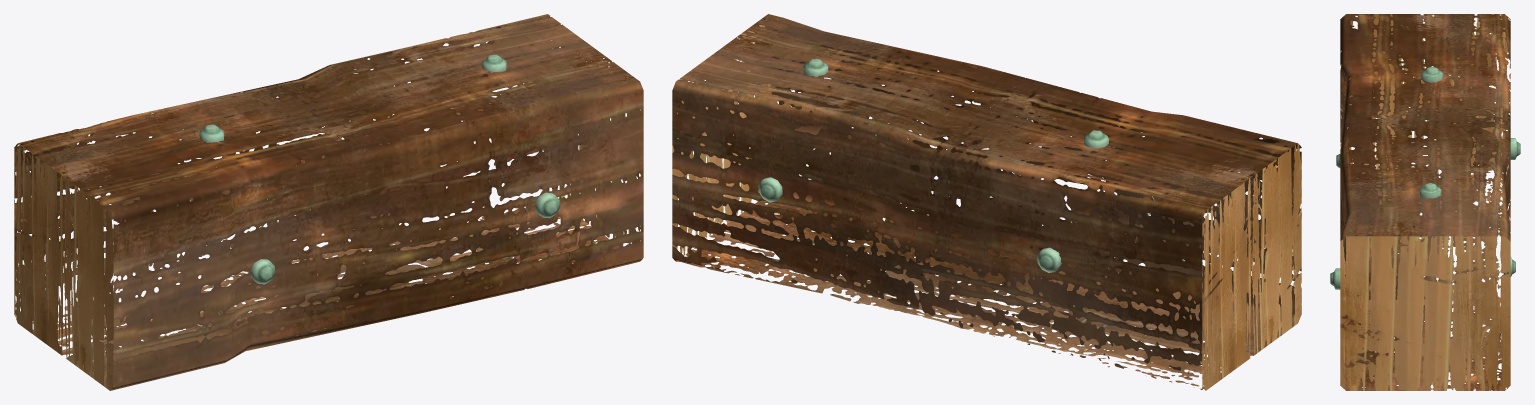
3 views of the same model, side by side, from view 1: azimuth 30°, elevation 25°; view 2: azimuth 150°, elevation 25°; view 3: azimuth 270°, elevation 25° (orthographic). The views are drawn at different scales.
Visible parts, largest first — view 1: SM_BB_T4_Beam_Thick_Med_Horizontal_LOD0; view 2: SM_BB_T4_Beam_Thick_Med_Horizontal_LOD0; view 3: SM_BB_T4_Beam_Thick_Med_Horizontal_LOD0.
Part boxes in pixels (x1=…): SM_BB_T4_Beam_Thick_Med_Horizontal_LOD0: x1=14, y1=14, x2=643, y2=390; SM_BB_T4_Beam_Thick_Med_Horizontal_LOD0: x1=672, y1=14, x2=1301, y2=390; SM_BB_T4_Beam_Thick_Med_Horizontal_LOD0: x1=1330, y1=14, x2=1520, y2=390.
Size of the model in its own units: 1.5 by 0.5492 by 0.5435.
2 materials, 2 textured.
